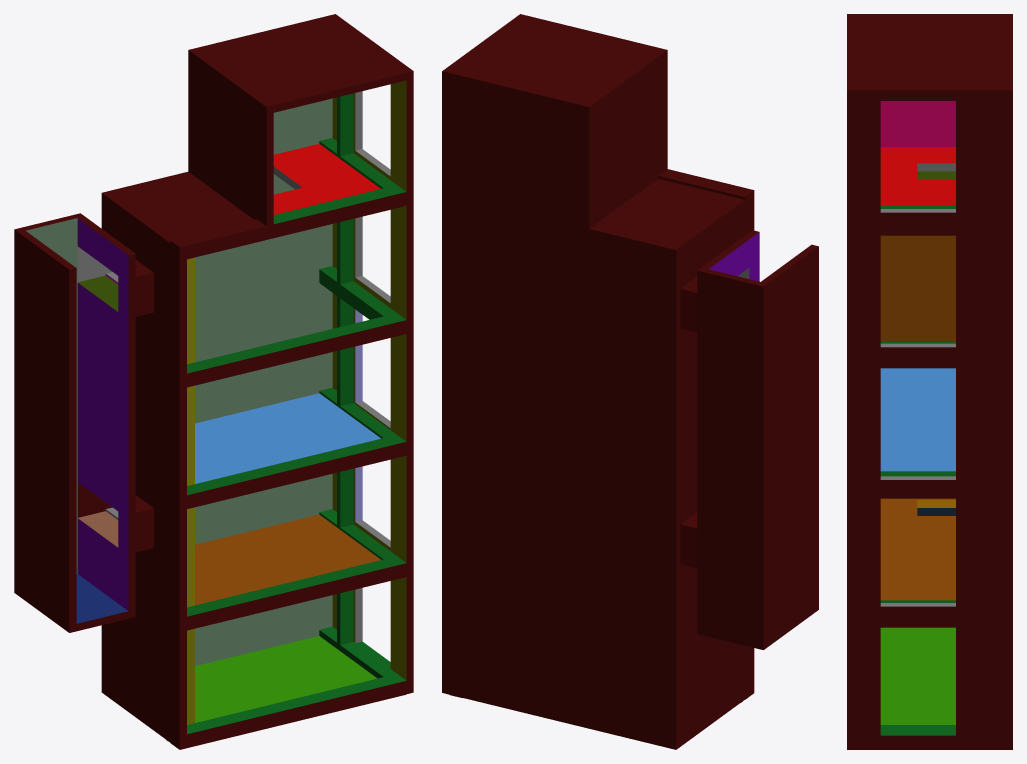
Rendered from complete_no_ceiling_with_color2.dae.
The picture shows the model from 3 angles, left to right: view 1: azimuth 30°, elevation 25°; view 2: azimuth 150°, elevation 25°; view 3: azimuth 270°, elevation 25°; orthographic projection. The views are drawn at different scales.
Visible parts, largest first — view 1: node; view 2: node; view 3: node.
Boxes of the visible parts, bbox=[...] form: node: bbox=[14, 14, 413, 749]; node: bbox=[442, 14, 818, 749]; node: bbox=[847, 14, 1012, 749].
Bounding box in the file's own units: 9.45 × 17.47 × 3.98.
